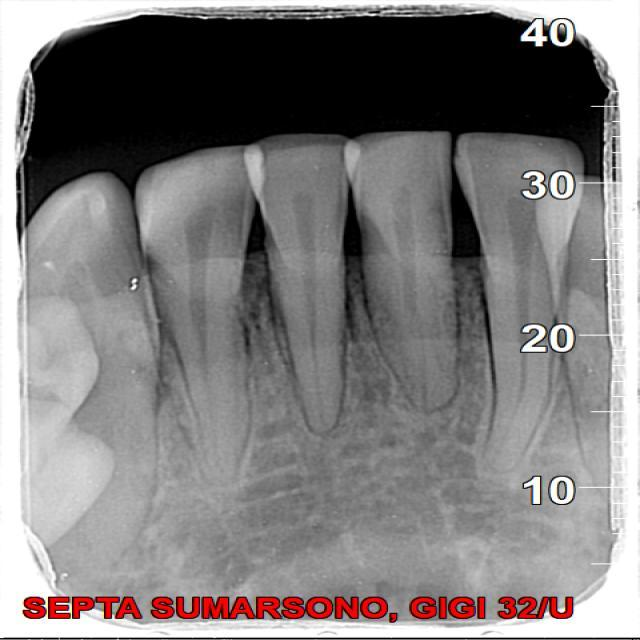individual-tooth-8tto: (129, 138, 271, 479), (451, 125, 583, 479), (236, 123, 359, 428), (345, 122, 458, 399)
